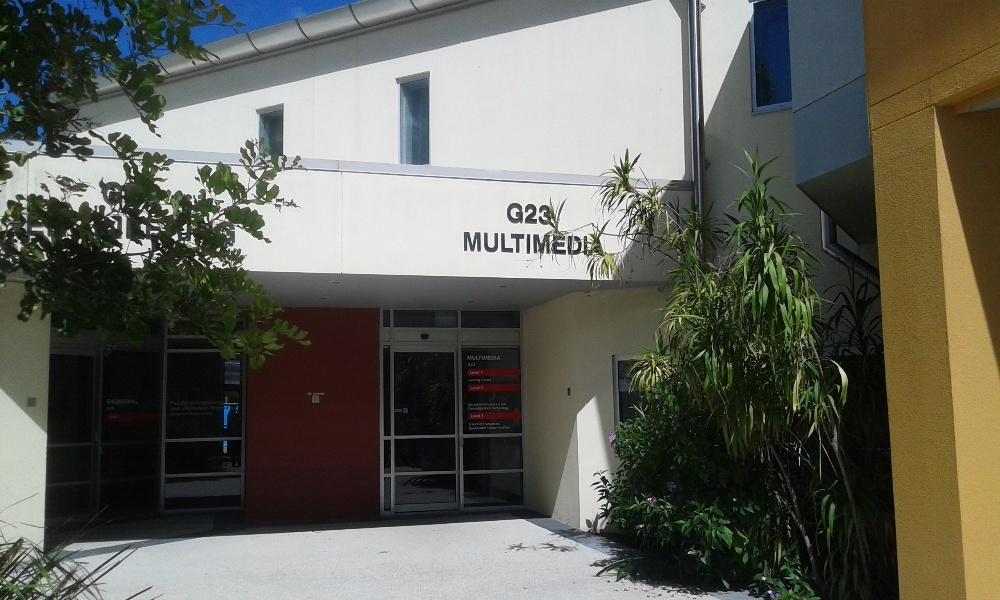text: (465, 231, 480, 257), (481, 231, 496, 257), (497, 231, 512, 257), (513, 231, 528, 257), (529, 231, 544, 257), (545, 231, 560, 257), (561, 231, 576, 257), (513, 202, 528, 225), (529, 202, 544, 225), (577, 231, 589, 257), (545, 202, 556, 225), (507, 202, 512, 225), (113, 399, 128, 406), (481, 355, 496, 361), (193, 406, 209, 411), (467, 355, 480, 361), (467, 378, 480, 384), (481, 378, 496, 383), (209, 401, 224, 406), (209, 406, 224, 411), (193, 412, 208, 417), (177, 401, 189, 407), (467, 363, 480, 368), (467, 402, 480, 407), (195, 401, 208, 406), (129, 399, 138, 406), (470, 370, 480, 376), (481, 370, 496, 374), (481, 386, 496, 390), (468, 422, 480, 427), (481, 427, 496, 431), (497, 427, 512, 431), (225, 406, 237, 411), (181, 406, 192, 411), (483, 403, 496, 407), (483, 422, 496, 426), (307, 392, 320, 396), (470, 414, 480, 419), (468, 407, 480, 411), (497, 407, 509, 411), (468, 427, 480, 431), (481, 415, 496, 418), (501, 403, 512, 407), (481, 407, 492, 411), (106, 399, 112, 406), (470, 386, 480, 390), (113, 415, 121, 420), (177, 412, 185, 417), (170, 401, 176, 407), (185, 412, 192, 417), (497, 355, 502, 361), (107, 406, 112, 412), (170, 407, 176, 412), (170, 412, 176, 417), (463, 231, 464, 257), (108, 415, 112, 420), (209, 412, 213, 417), (321, 392, 326, 396), (113, 406, 116, 412), (497, 403, 501, 407), (492, 407, 496, 411), (497, 422, 501, 426), (189, 401, 192, 406), (177, 407, 180, 412), (481, 403, 484, 407), (193, 401, 195, 406), (190, 412, 192, 417), (481, 423, 483, 427), (481, 378, 482, 384), (225, 401, 226, 406), (479, 403, 480, 407), (479, 423, 480, 427)
